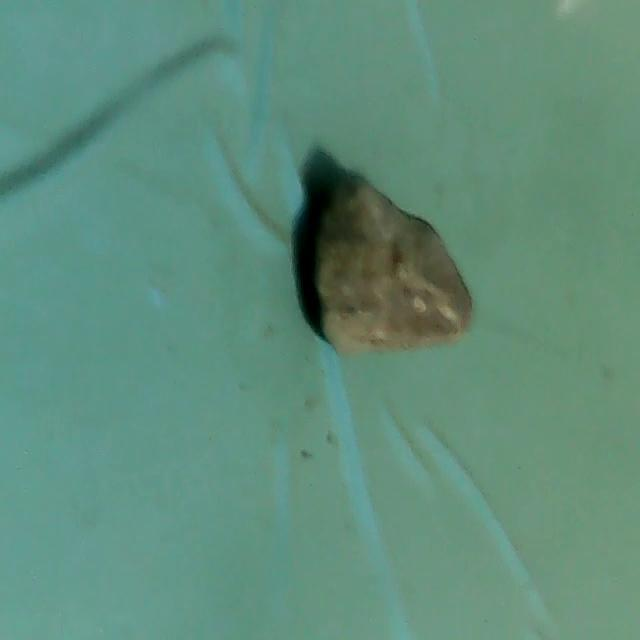rock: (294, 150, 480, 360)
